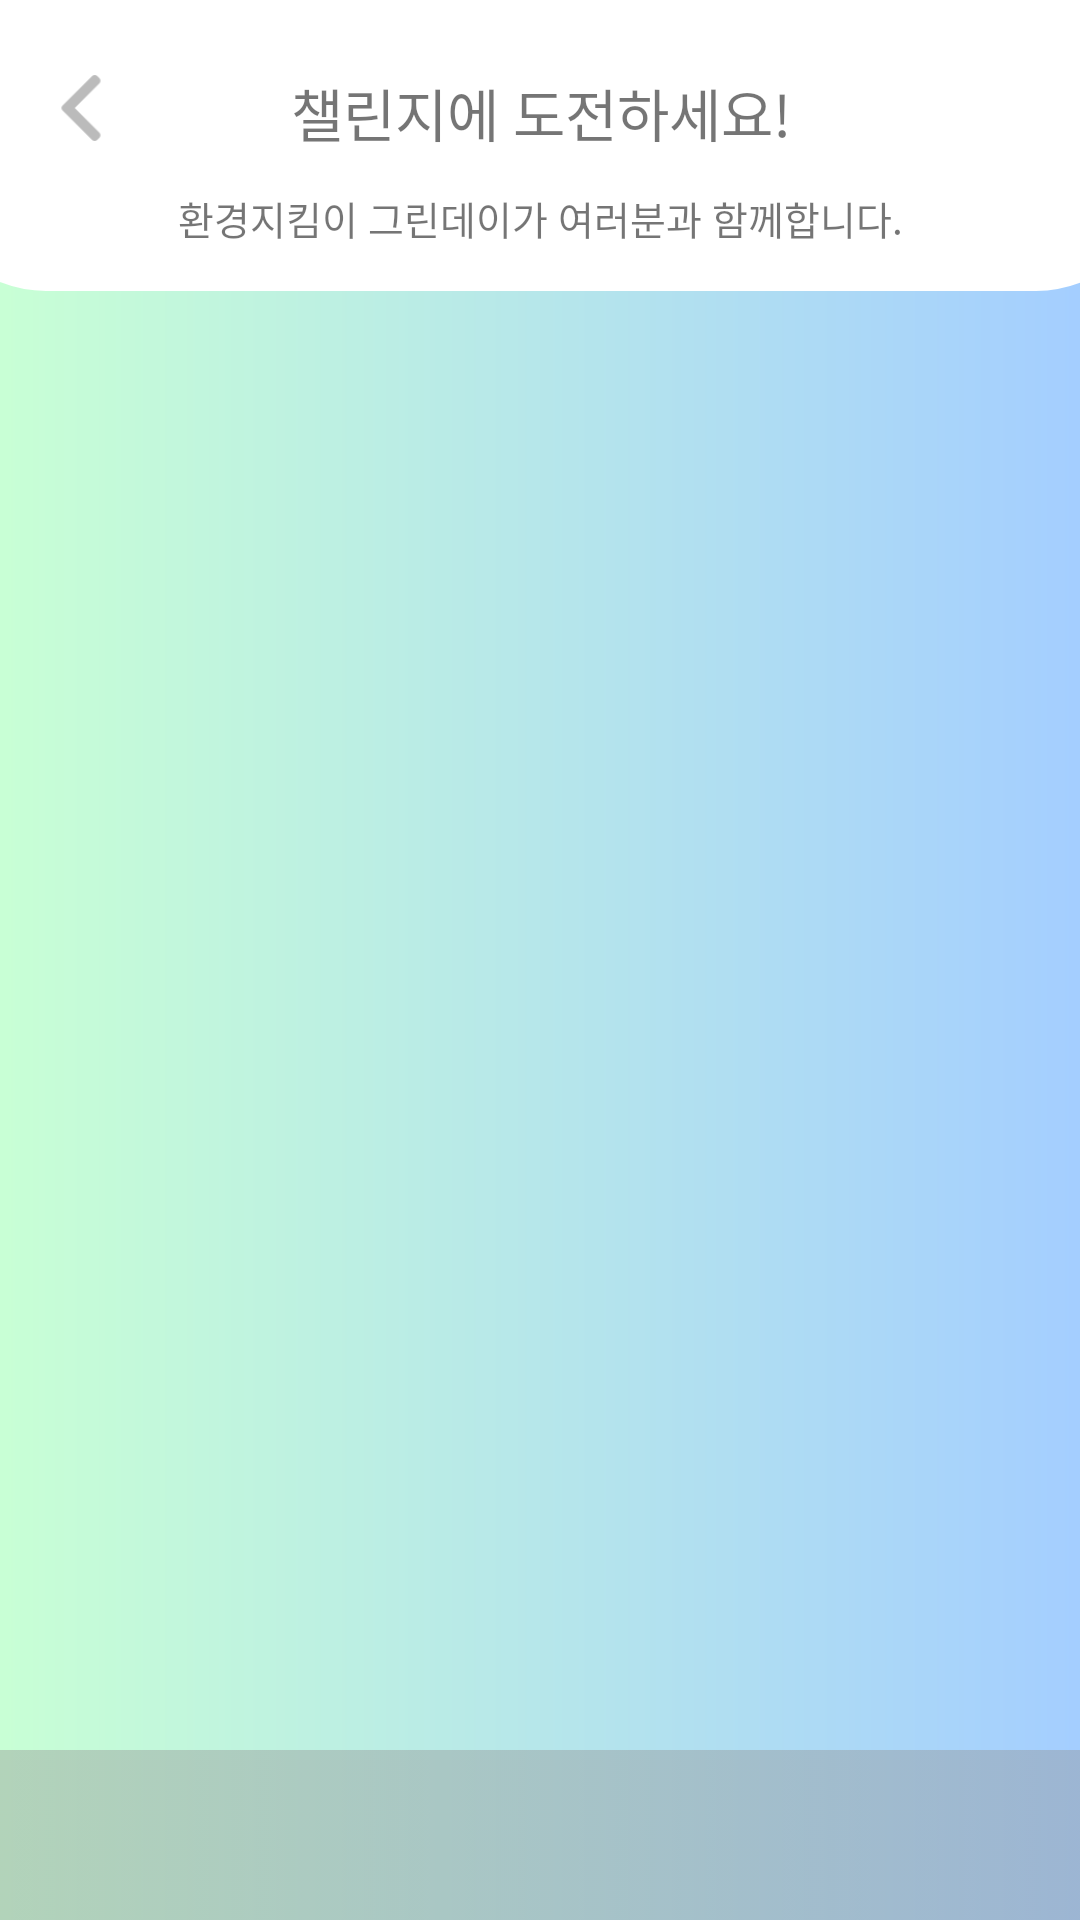

Locate icon controls on the screen. Image size 1080x1920, boxes as bbox=[x1, y1, x2, y2].
arrow: bbox=[61, 75, 101, 141]
